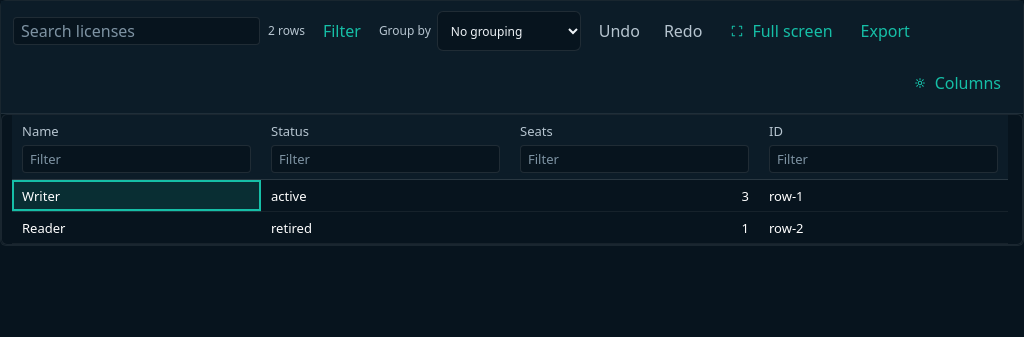
Test: undo steps back through separate cell edits one at a time
Press Enter in the table, box [12, 115, 1012, 244]
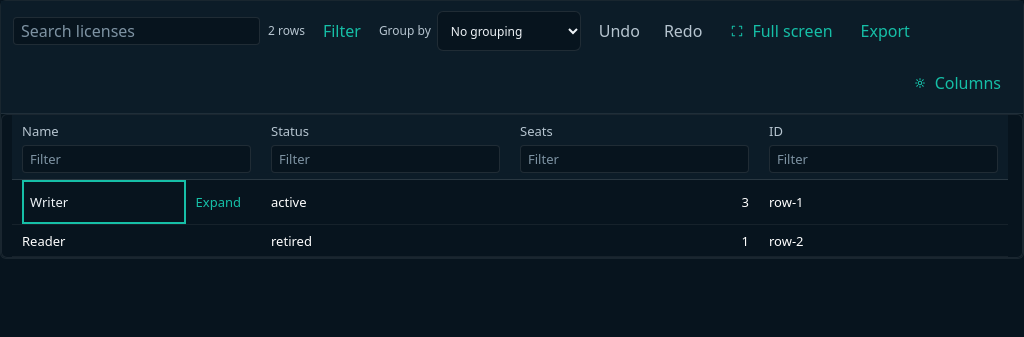
Replace the text in the field named "Name for" with "Composer" at (104, 202), box [22, 180, 186, 224]
Press Enter in the field named "Name for", box [22, 180, 186, 224]
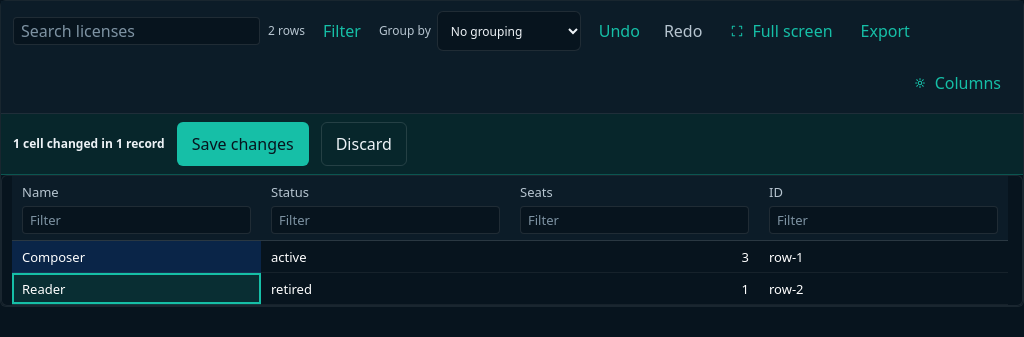
Press Enter in the table, box [12, 176, 1012, 305]
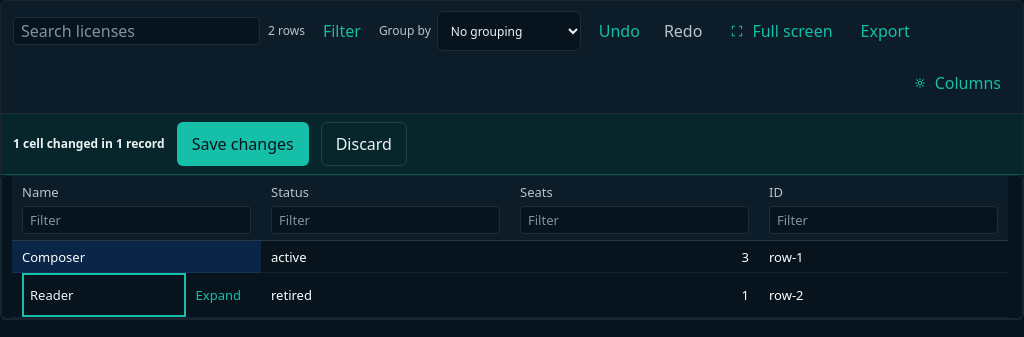
Replace the text in the field named "Name for" with "Editor" at (104, 295), box [22, 273, 186, 317]
Press Enter in the field named "Name for", box [22, 273, 186, 317]
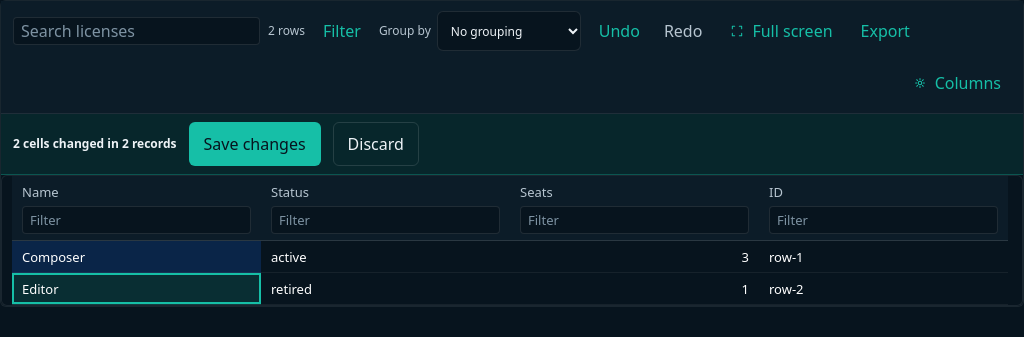
Result: the text "2 cells changed in 2 records" is shown at [13, 136, 177, 152]
Press z in the table, box [12, 176, 1012, 305]
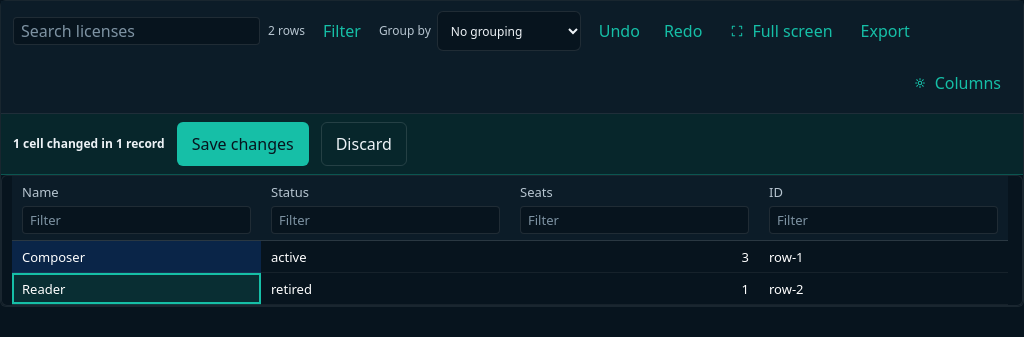
Result: the text "1 cell changed in 1 record" is shown at [13, 136, 165, 152]
Press y in the table, box [12, 176, 1012, 305]
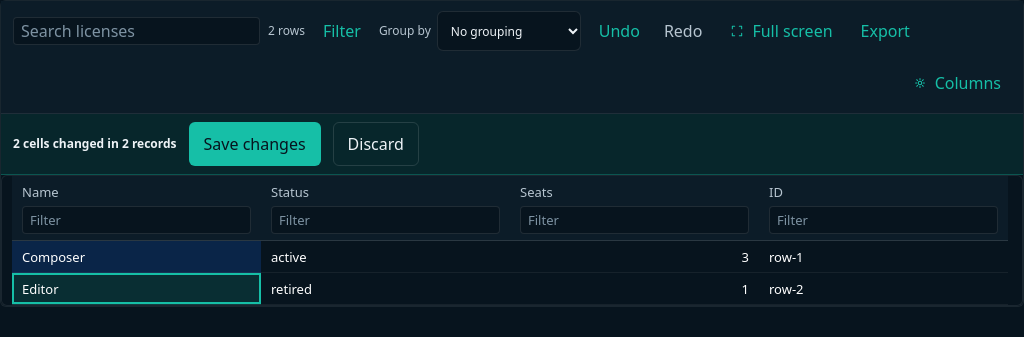
Result: the text "2 cells changed in 2 records" is shown at [13, 136, 177, 152]
